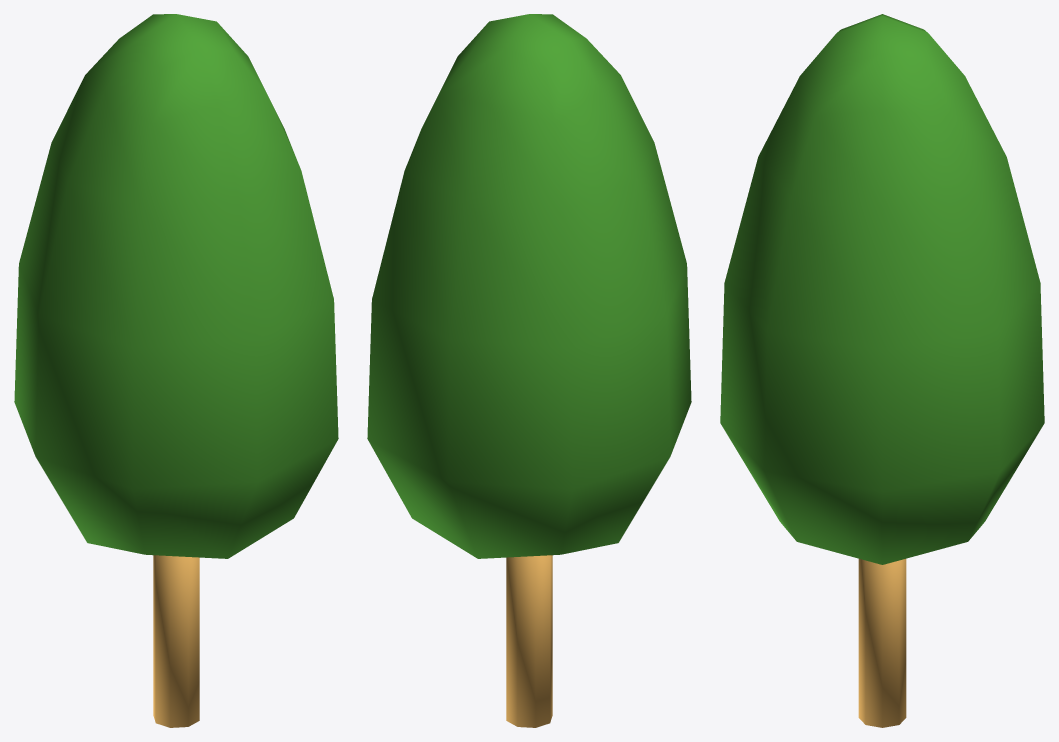
File: Prop_Tree_04.fbx
The picture shows the model from 3 angles, left to right: view 1: azimuth 30°, elevation 25°; view 2: azimuth 150°, elevation 25°; view 3: azimuth 270°, elevation 25°; orthographic projection.
Parts seen in each view (by area): view 1: Prop_Tree_04; view 2: Prop_Tree_04; view 3: Prop_Tree_04.
Boxes of the visible parts, x1,y1,x2,y2 form: Prop_Tree_04: (14,14,338,727); Prop_Tree_04: (367,14,691,727); Prop_Tree_04: (720,14,1044,727).
Size of the model in its own units: 212 by 505 by 212.
